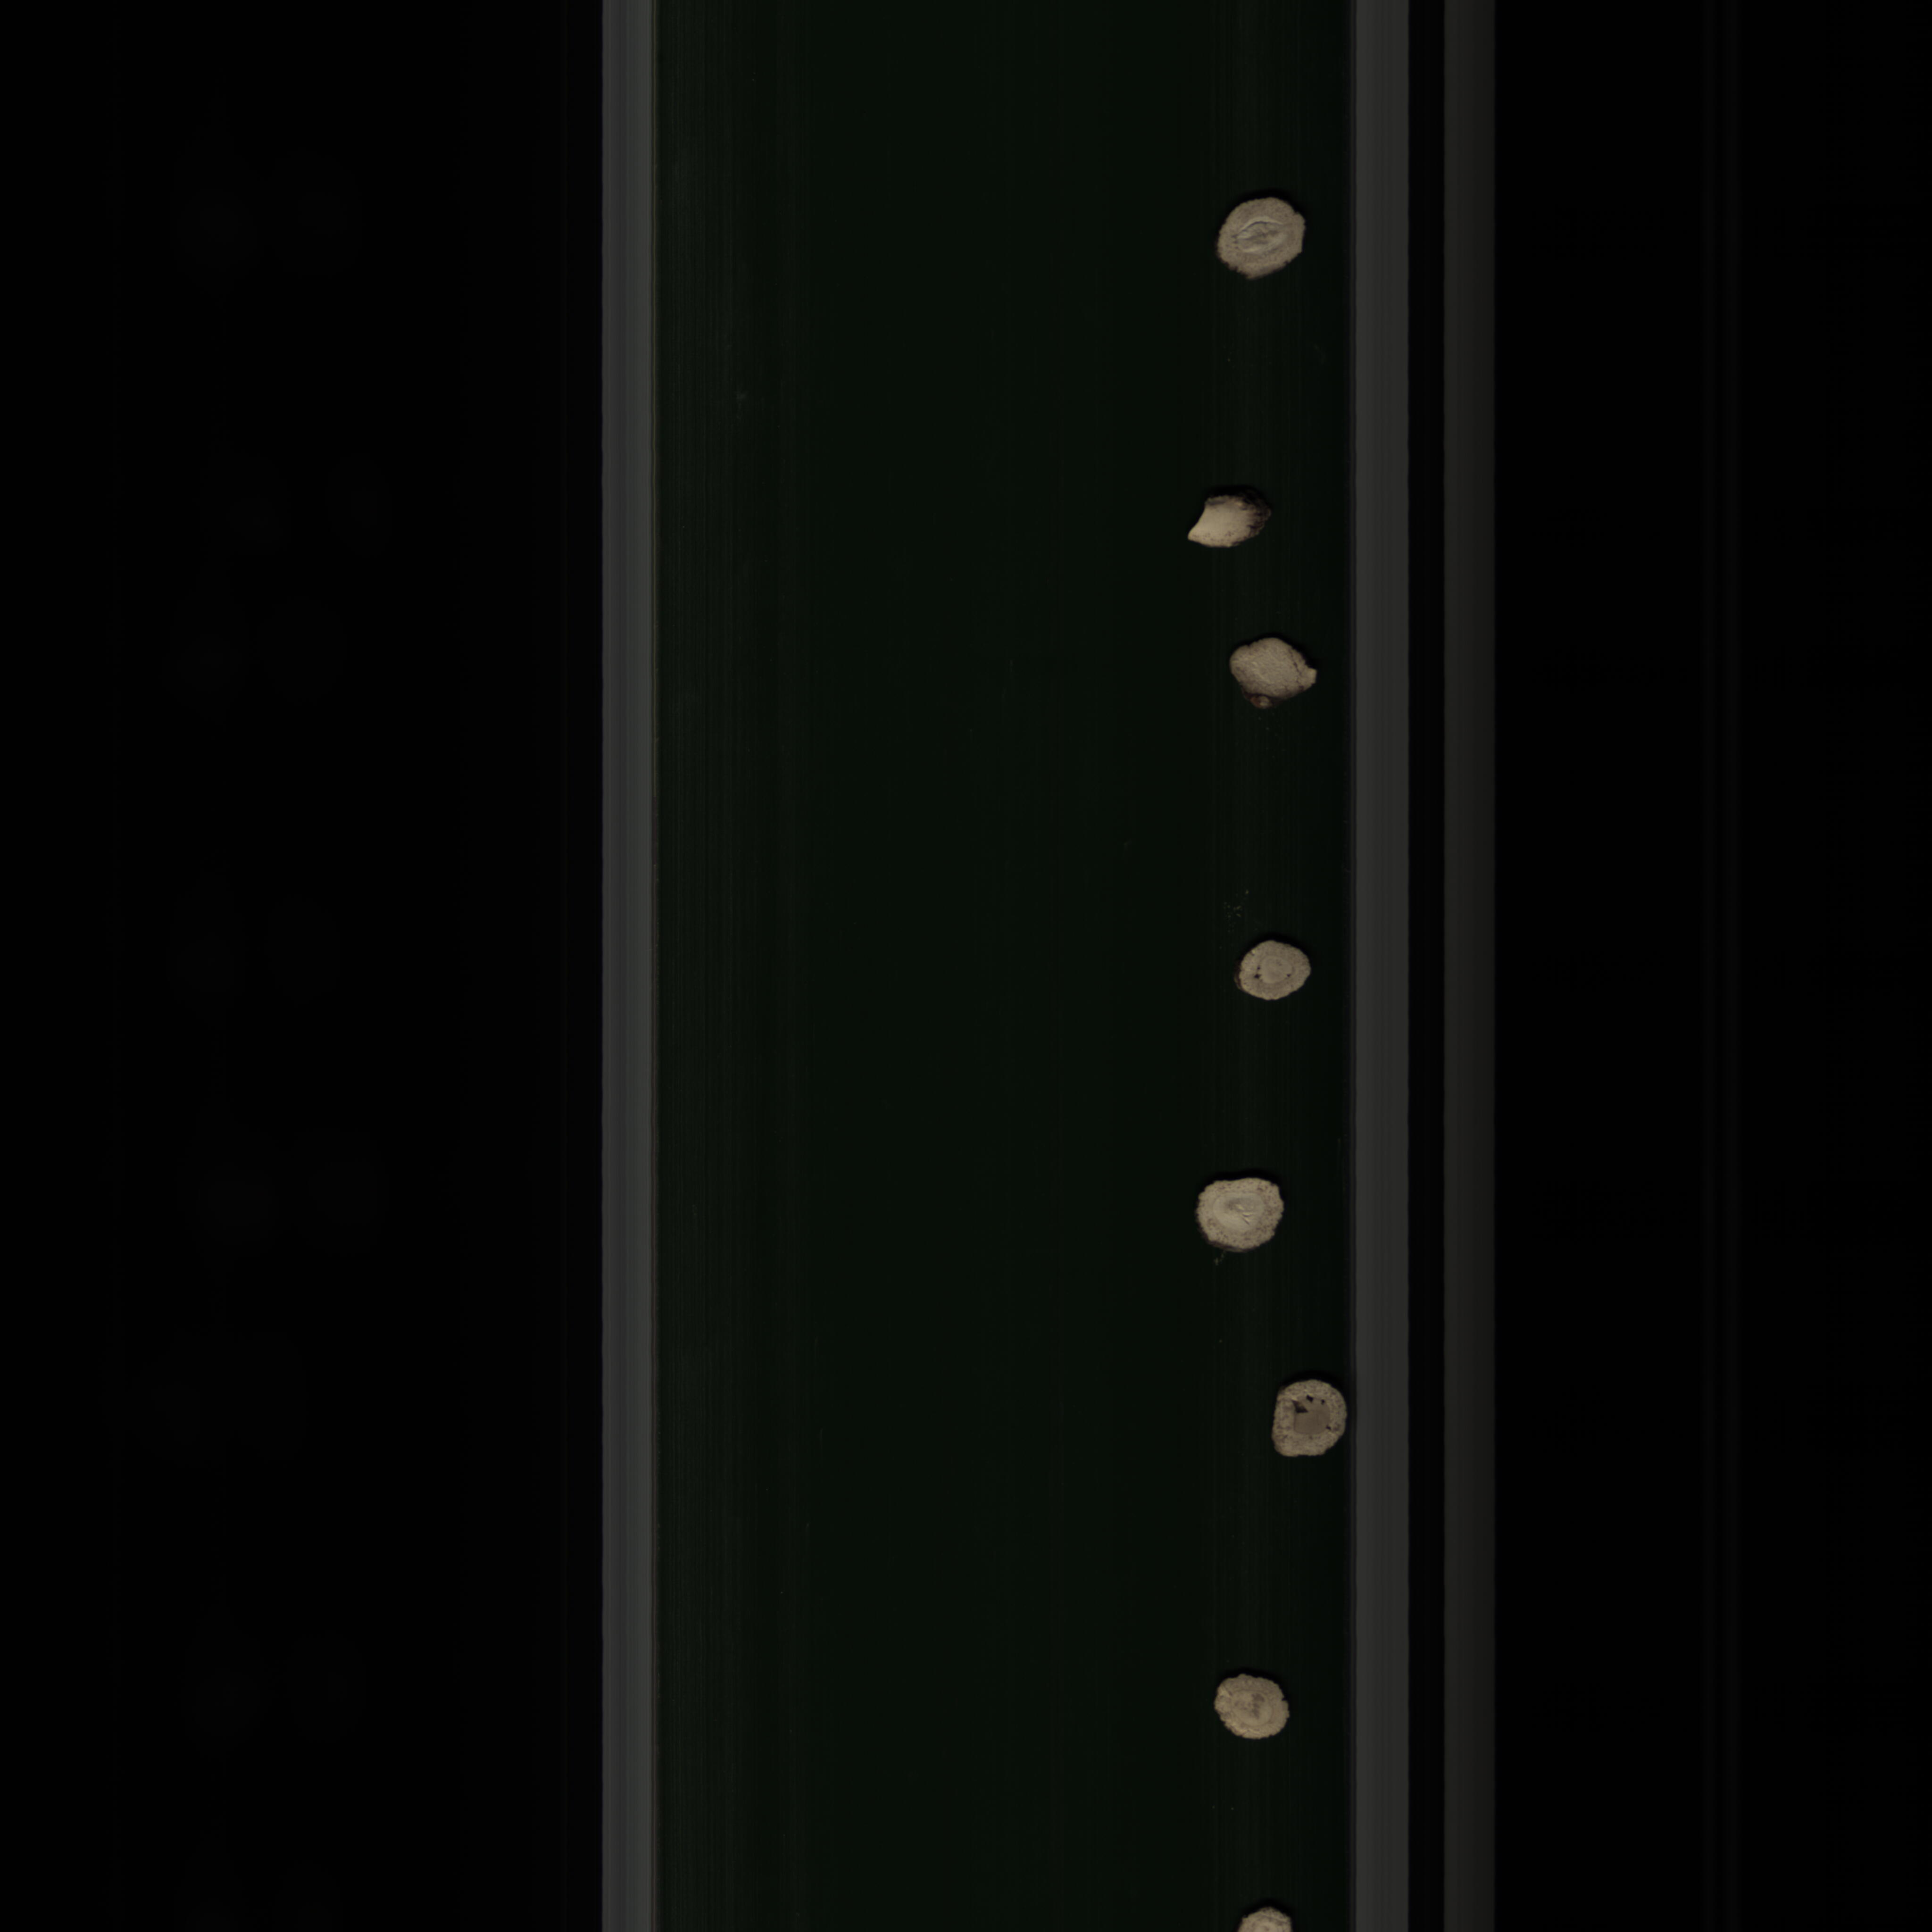debris: (1221, 633, 1330, 718), (1180, 488, 1281, 556)
hole: (1267, 1373, 1355, 1467)
